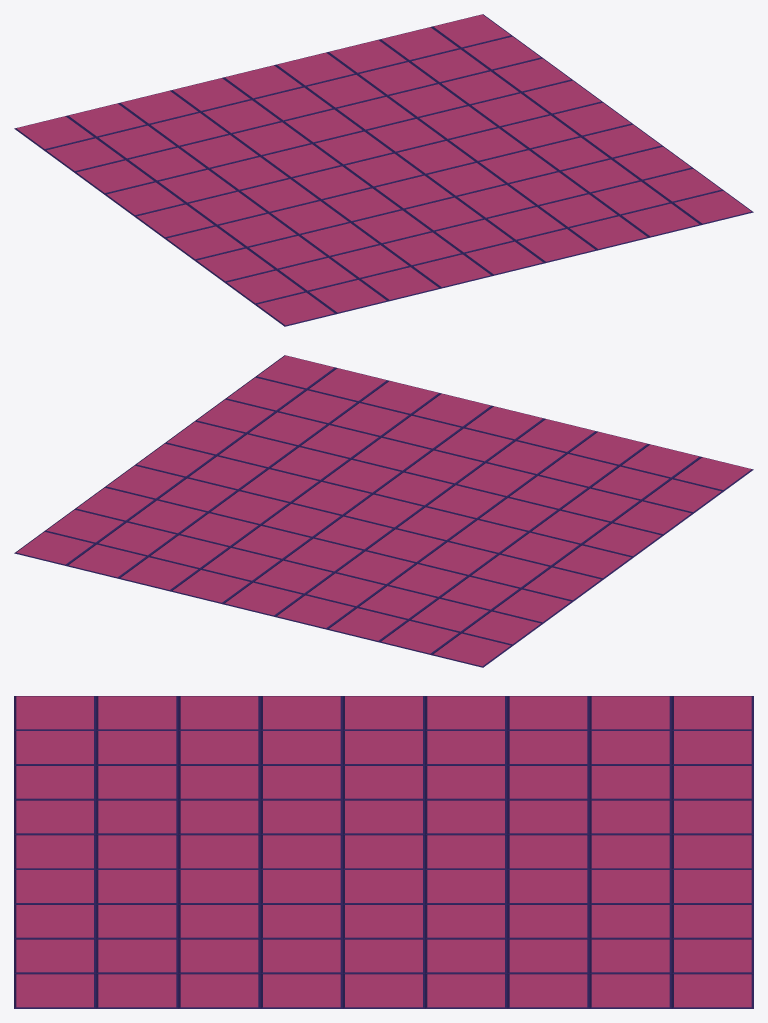
File: floor_tiles.glb
3 views of the same model, one above another, from view 1: azimuth 30°, elevation 25°; view 2: azimuth 150°, elevation 25°; view 3: azimuth 270°, elevation 25° (orthographic). The views are drawn at different scales.
Parts seen in each view (by area): view 1: Tiles; view 2: Tiles; view 3: Tiles.
Boxes of the visible parts, bbox=[...] form: Tiles: bbox=[14, 14, 753, 326]; Tiles: bbox=[14, 355, 753, 667]; Tiles: bbox=[14, 696, 753, 1008].
Bounding box in the file's own units: 18 × 0.0195 × 18.
